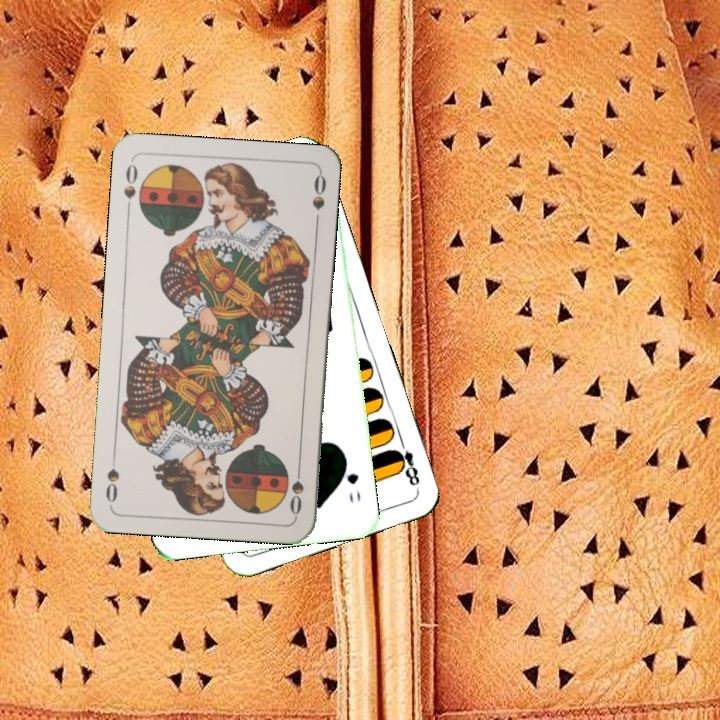E8: (389, 434, 422, 489)
GO: (339, 454, 363, 505)
SO: (286, 459, 306, 518), (120, 159, 140, 217)
